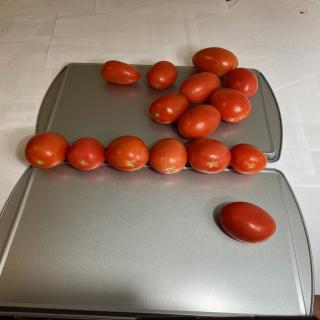Tomato: (219, 202, 277, 244), (186, 138, 232, 174), (25, 132, 69, 168), (106, 136, 149, 172), (178, 104, 221, 140), (210, 88, 251, 123), (192, 47, 238, 77), (149, 138, 187, 174), (179, 72, 221, 104), (66, 138, 105, 170), (149, 93, 189, 124), (230, 144, 268, 174), (101, 60, 141, 85), (225, 68, 258, 98), (146, 60, 178, 90)
